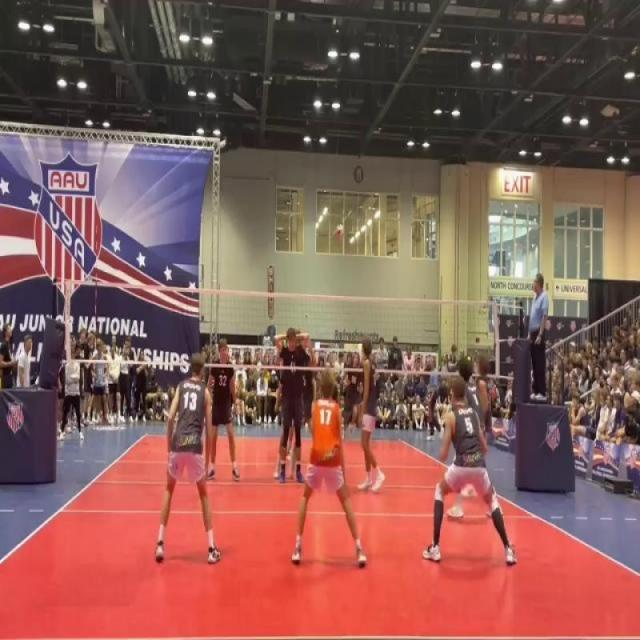volleyball: (334, 222, 346, 243)
